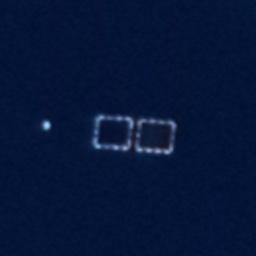square_solid: (88, 108, 141, 157), (131, 115, 179, 162)
